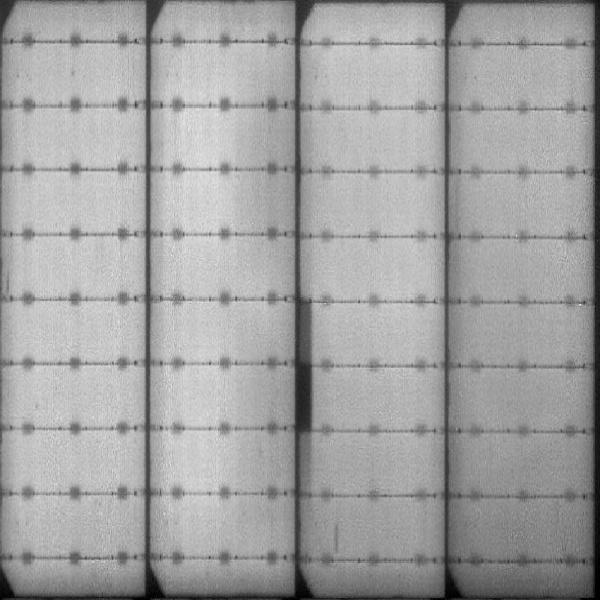black_border: (290, 293, 317, 484)
